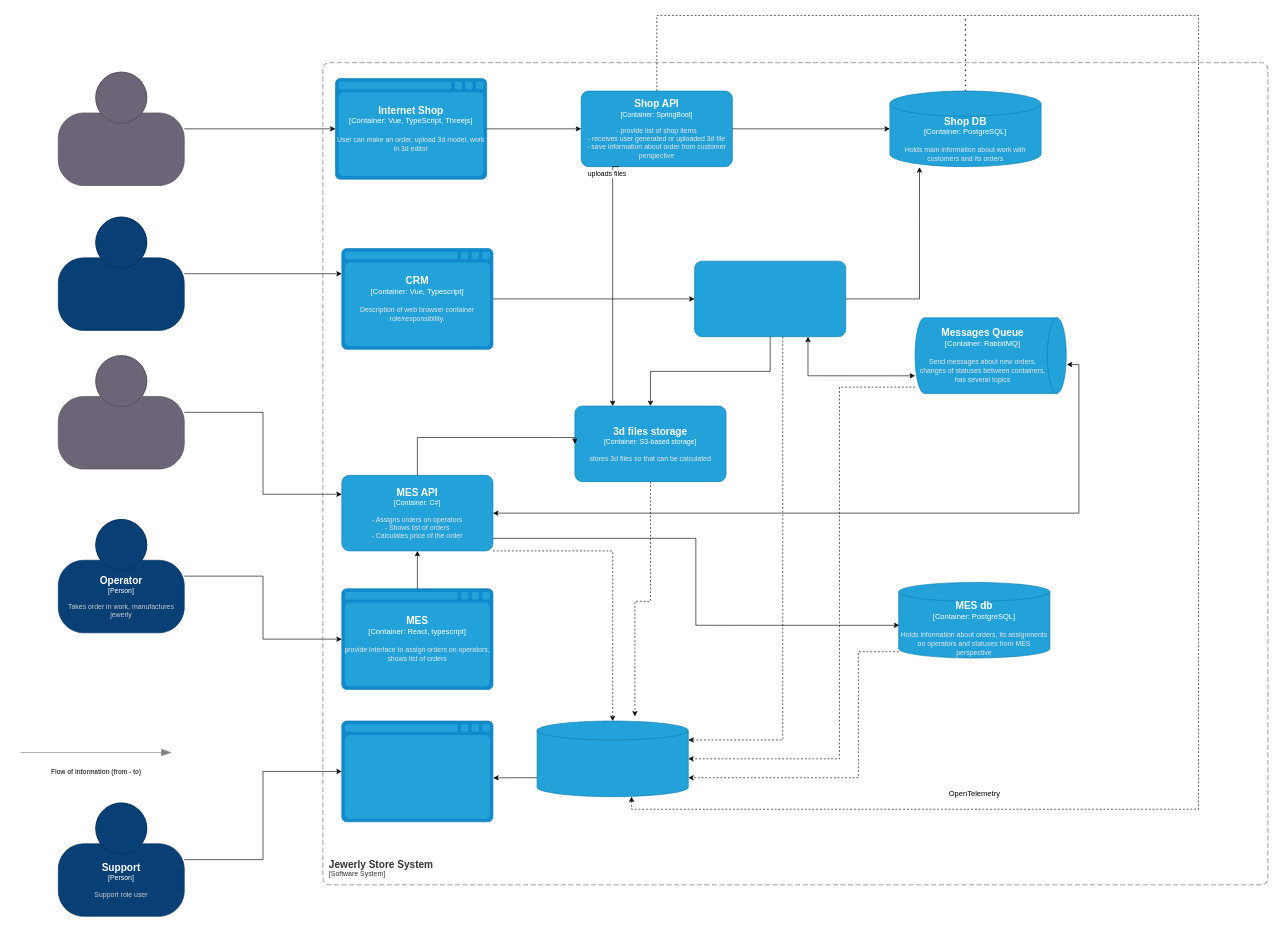
Image size: 1279x927. Some labels were removed from this diagram. The shapes that lost their labels are listed below. From the top down, each one's box as (x1, y1, x2, y2) in pixels, then its label:
(58, 72, 184, 186): Customer [Person] Description of external person.
(58, 216, 184, 330): Seller [Person] Operates with order, confirms manufacturing for the user
(694, 261, 846, 337): CRM API [Container: SpringBoot] Description of container role/responsibility.
(58, 355, 184, 469): API user [Person] Description of external person.
(341, 720, 493, 822): Jaeger UI [Container: Jaeger UI] Tracing viewer
(536, 720, 688, 797): Jaeger DB [Container: JaegerDB] Tracing data
